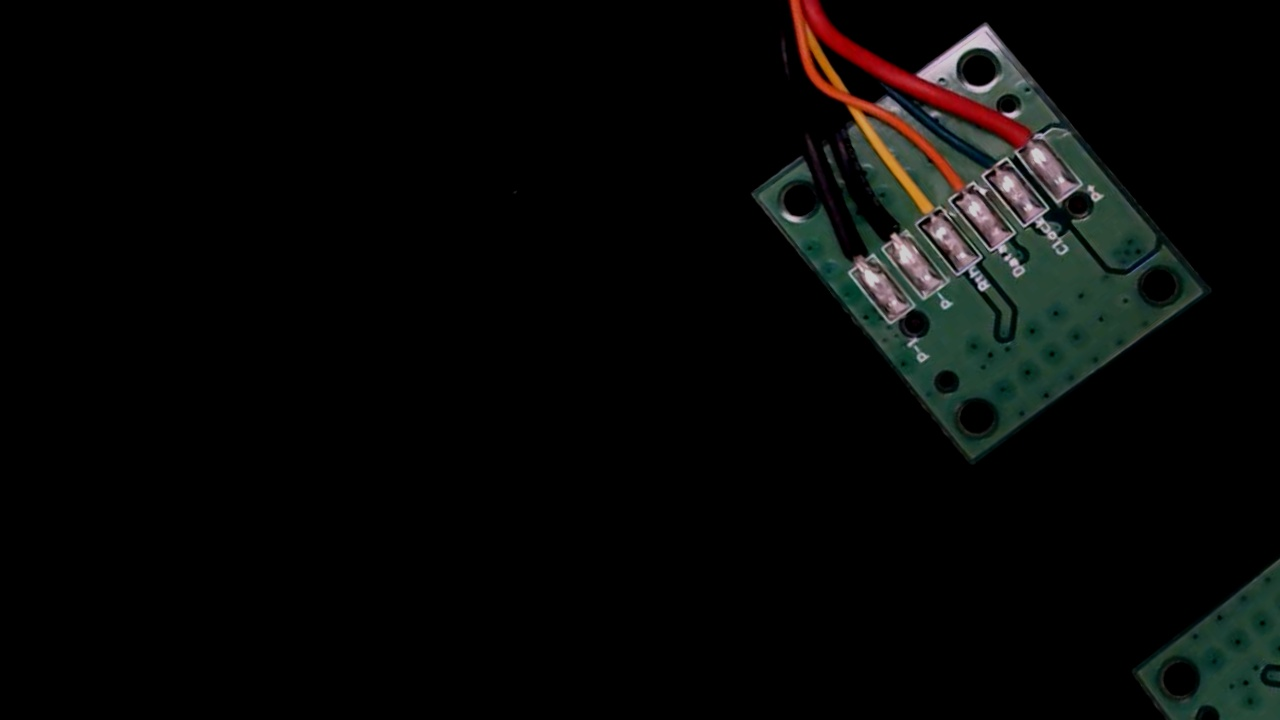Black: (845, 185, 922, 267)
Black1: (814, 216, 887, 293)
Green: (948, 117, 1023, 195)
Orange: (914, 139, 989, 218)
Red: (982, 93, 1056, 170)
Yellow: (878, 160, 955, 242)
